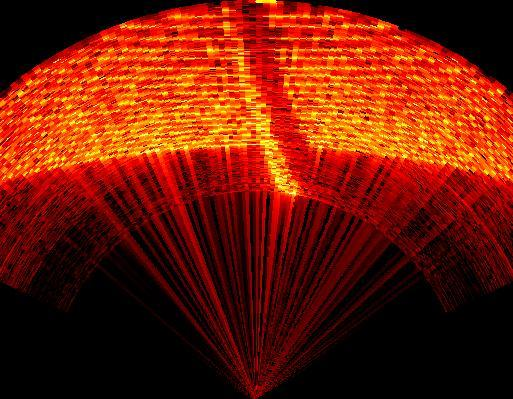pipe: (214, 5, 319, 200)
